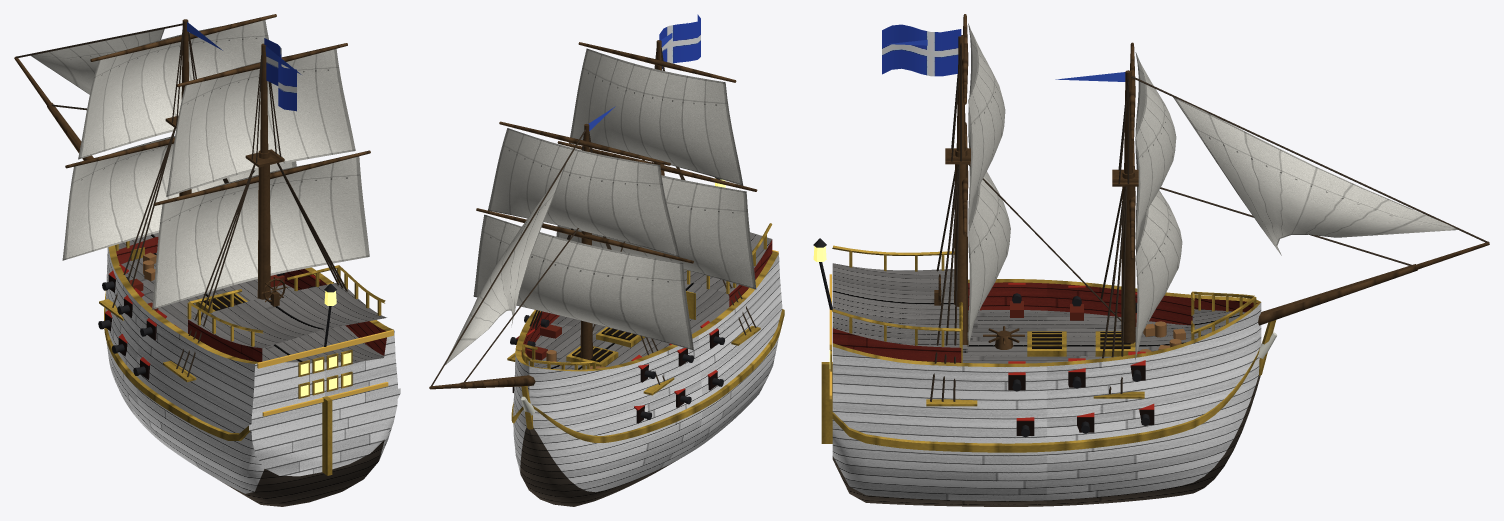
File: enemy_galleon.glb
3 renders of one model, left to right at view 1: azimuth 30°, elevation 25°; view 2: azimuth 150°, elevation 25°; view 3: azimuth 270°, elevation 25°, orthographic. The views are drawn at different scales.
Visible parts, largest first — view 1: Hull, Sail1_0, Sail1_1, Rigging, Sail0_1, Sail0_0, Jib, Flag, Guns0; view 2: Hull, Sail0_0, Sail1_1, Sail0_1, Sail1_0, Rigging, Jib, Flag, Guns0; view 3: Hull, Rigging, Jib, Sail0_0, Sail1_0, Sail0_1, Sail1_1, Flag, Guns0.
Part boxes in pixels (left/top/right/bottom): Hull: left=99, top=232, right=400, bottom=506; Sail1_0: left=152, top=156, right=369, bottom=309; Sail1_1: left=166, top=49, right=355, bottom=196; Rigging: left=14, top=14, right=370, bottom=376; Sail0_1: left=78, top=20, right=268, bottom=159; Sail0_0: left=62, top=135, right=296, bottom=260; Jib: left=31, top=29, right=164, bottom=94; Flag: left=264, top=38, right=296, bottom=111; Guns0: left=98, top=273, right=333, bottom=375; Hull: left=507, top=177, right=784, bottom=506; Sail0_0: left=473, top=214, right=693, bottom=350; Sail1_1: left=569, top=48, right=743, bottom=185; Sail0_1: left=488, top=128, right=679, bottom=257; Sail1_0: left=556, top=175, right=756, bottom=289; Rigging: left=429, top=33, right=757, bottom=389; Jib: left=445, top=164, right=565, bottom=364; Flag: left=659, top=14, right=700, bottom=68; Guns0: left=510, top=315, right=724, bottom=419; Hull: left=813, top=238, right=1277, bottom=506; Rigging: left=887, top=14, right=1489, bottom=401; Jib: left=1173, top=97, right=1458, bottom=255; Sail0_0: left=1135, top=186, right=1182, bottom=359; Sail1_0: left=968, top=166, right=1010, bottom=346; Sail0_1: left=1135, top=52, right=1176, bottom=248; Sail1_1: left=968, top=23, right=1005, bottom=223; Flag: left=882, top=24, right=961, bottom=76; Guns0: left=1010, top=293, right=1150, bottom=437.
Size of the model in its own units: 1.47 by 2.54 by 3.39.
20 materials, 8 textured.
